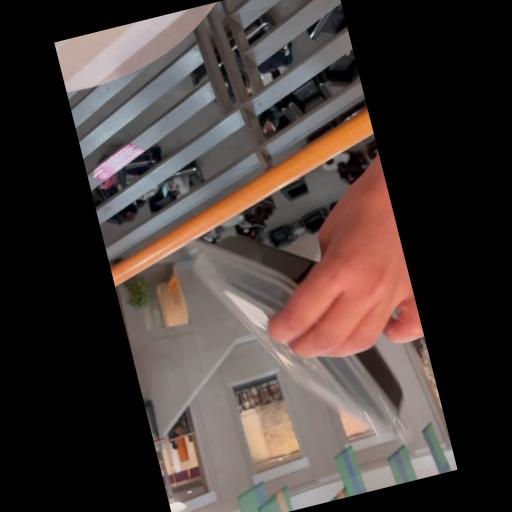rigid_plastic_container: (166, 189, 422, 482)
